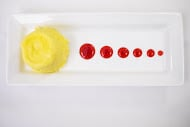sushi: (4, 10, 188, 126)
